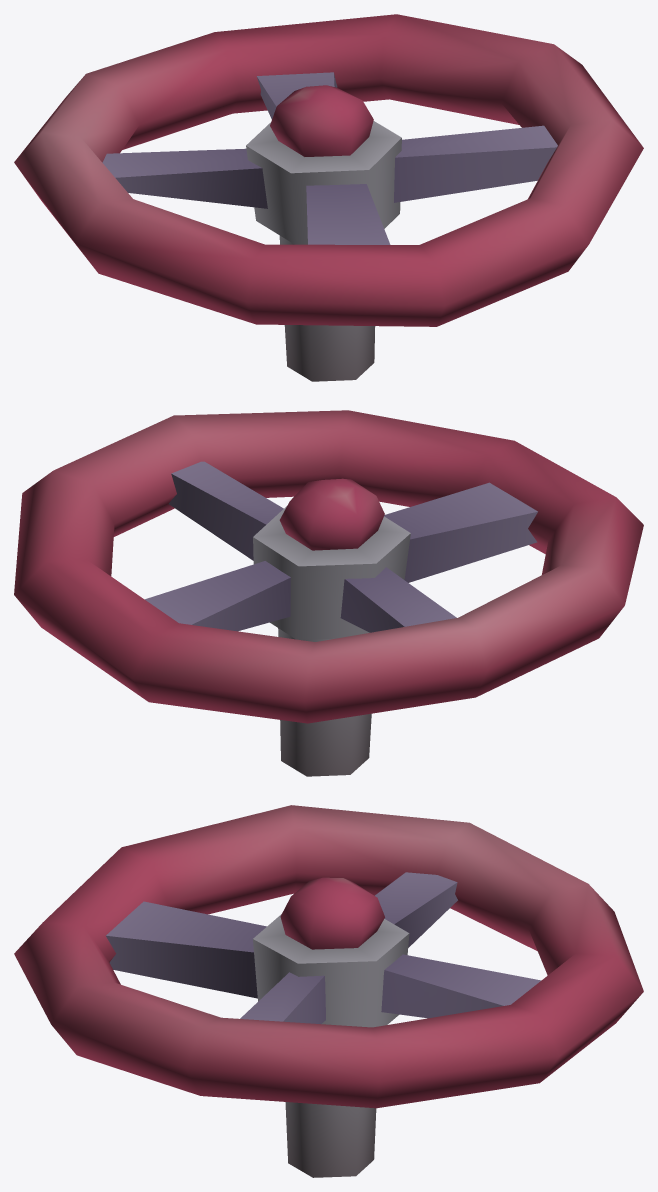
File: prop-handwheel_valve.glb
3 renders of one model, top to bottom at view 1: azimuth 30°, elevation 25°; view 2: azimuth 150°, elevation 25°; view 3: azimuth 270°, elevation 25°, orthographic.
Parts seen in each view (by area): view 1: prop-handwheel_valve; view 2: prop-handwheel_valve; view 3: prop-handwheel_valve.
Part boxes in pixels (x1,y1,x2,y2): prop-handwheel_valve: (14, 14, 643, 381); prop-handwheel_valve: (14, 410, 643, 776); prop-handwheel_valve: (14, 805, 643, 1177).
Size of the model in its own units: 1.45 by 0.6919 by 1.44.
